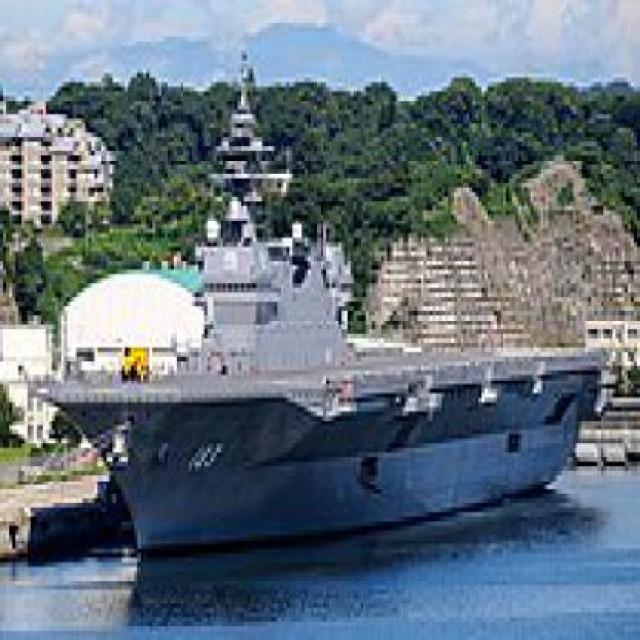warship2: (31, 60, 620, 596)
